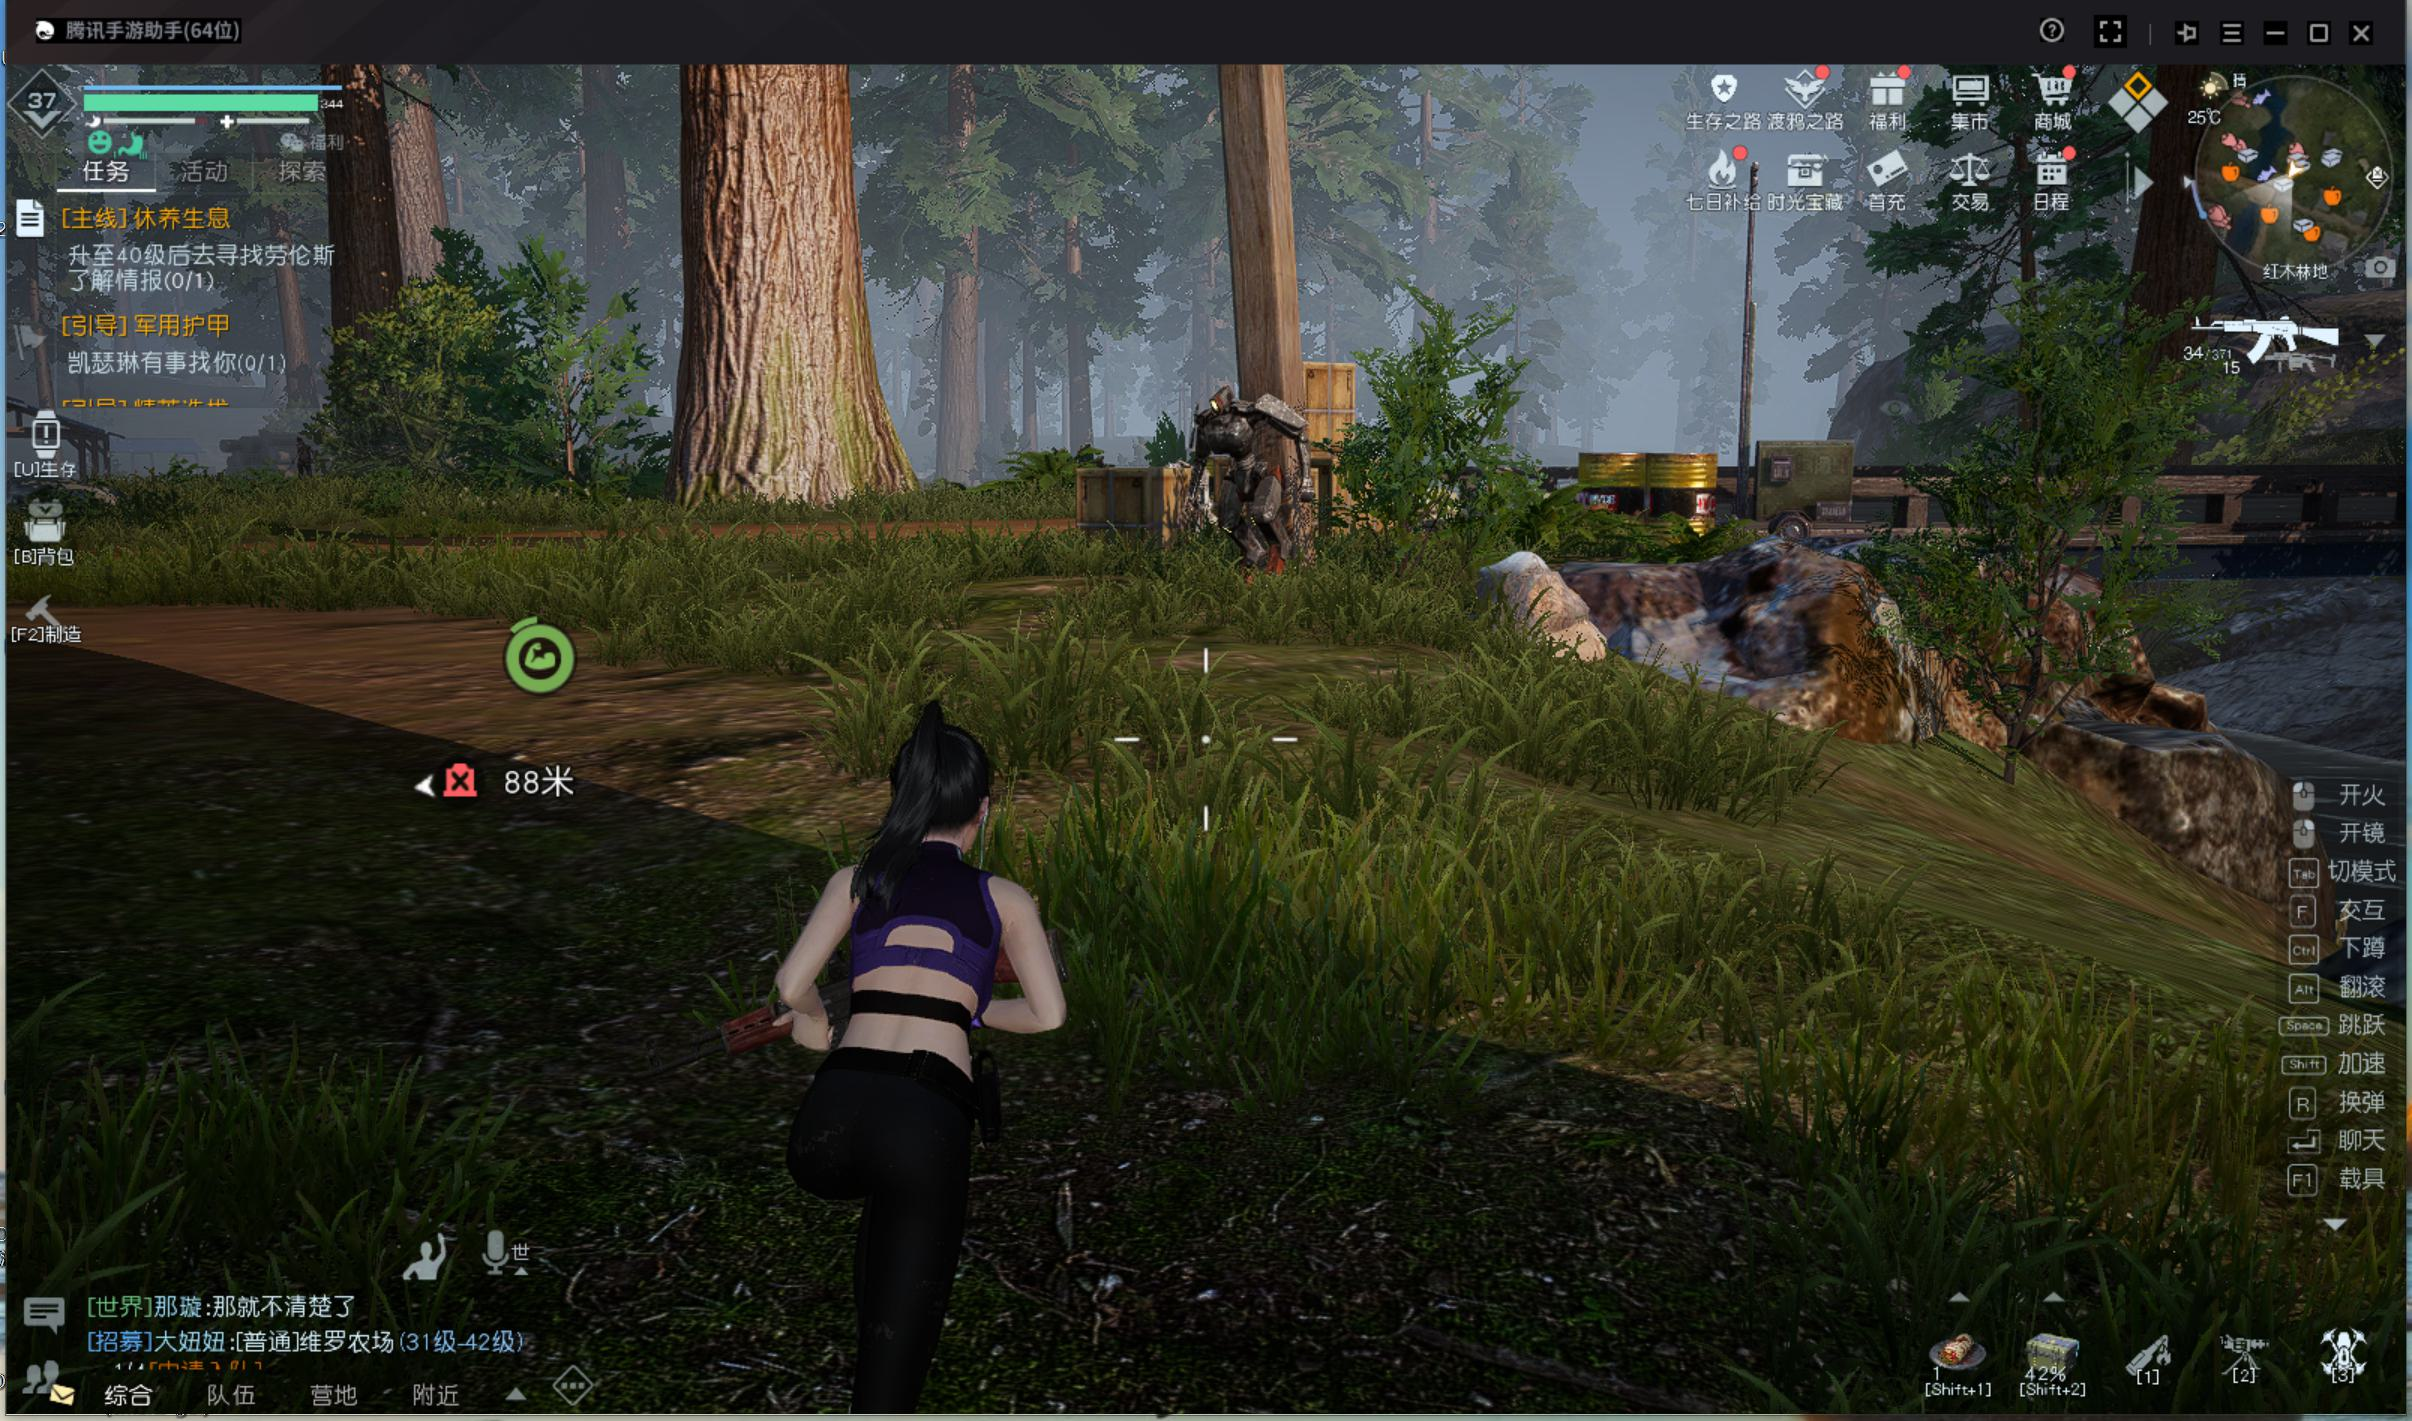tree: (636, 142, 881, 528), (925, 281, 979, 506), (1064, 262, 1099, 487)
